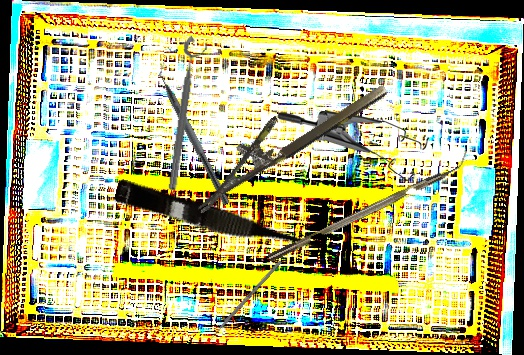Chopper: (262, 150, 475, 262), (149, 58, 240, 206)
Fixation Ring: (163, 34, 211, 193)
Micro Scissor: (112, 178, 324, 264)
Needle Holder: (177, 58, 391, 215)
Pusher: (204, 260, 282, 346)
Speculum: (277, 108, 430, 184)
